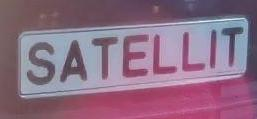1: (205, 23, 222, 74)
A: (57, 36, 94, 87)
E: (117, 29, 153, 83)
L: (148, 28, 180, 79), (177, 26, 210, 74)
S: (24, 36, 58, 89)
T: (89, 31, 121, 87), (217, 21, 246, 74)
